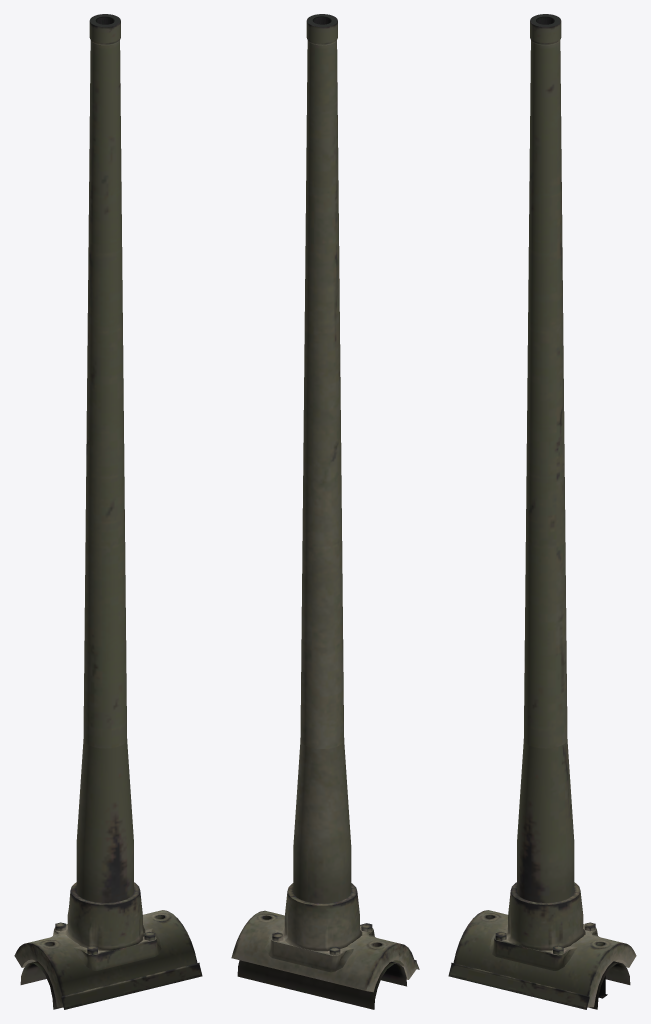
The model's file is Gun_01.glb.
The picture shows the model from 3 angles, left to right: view 1: azimuth 30°, elevation 25°; view 2: azimuth 150°, elevation 25°; view 3: azimuth 330°, elevation 25°; orthographic projection.
Parts seen in each view (by area): view 1: set_0_group_0; view 2: set_0_group_0; view 3: set_0_group_0.
Part boxes in pixels (left/top/right/bottom): set_0_group_0: left=14, top=14, right=202, bottom=1009; set_0_group_0: left=231, top=14, right=419, bottom=1009; set_0_group_0: left=448, top=14, right=636, bottom=1009.
Size of the model in its own units: 0.6759 by 4.5 by 0.4387.
1 material, 1 textured.
